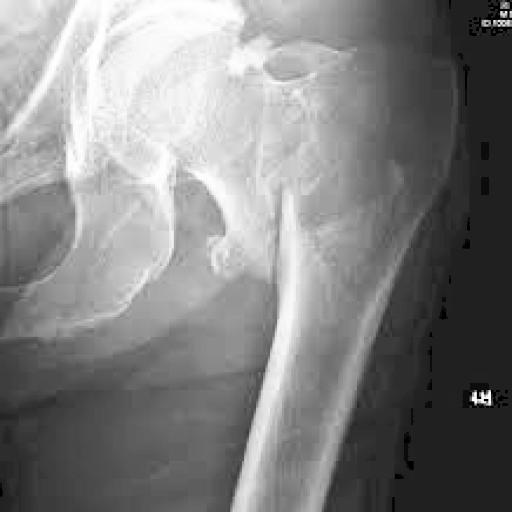intertrochanteric: (91, 19, 429, 280), (260, 61, 459, 411)
